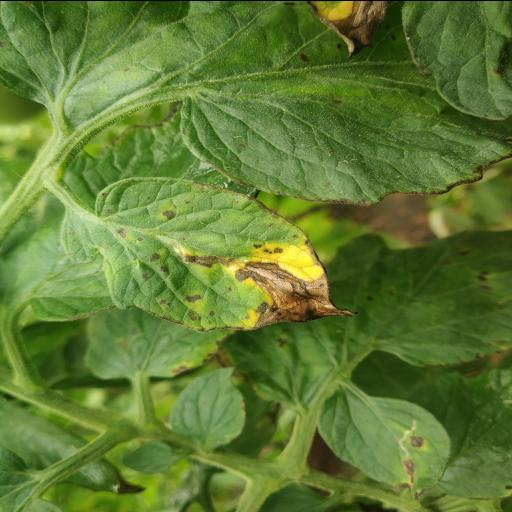disease_tomato: (54, 174, 362, 334)
